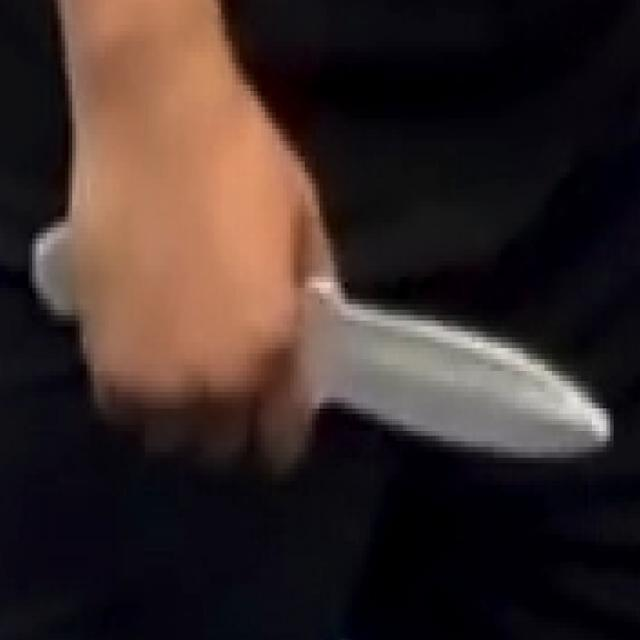suspicion: (21, 3, 622, 484), (304, 274, 617, 466), (28, 216, 74, 324)
